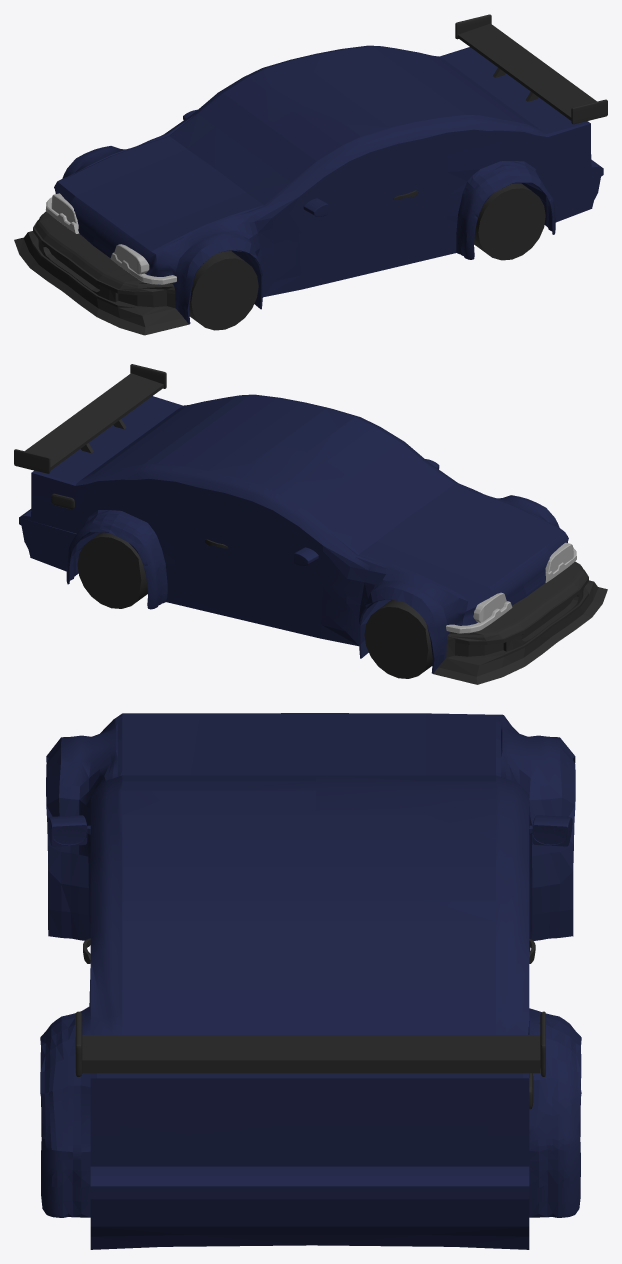
File: BMW_m3_2.0.fbx
3 views of the same model, one above another, from view 1: azimuth 30°, elevation 25°; view 2: azimuth 150°, elevation 25°; view 3: azimuth 270°, elevation 25° (orthographic). The views are drawn at different scales.
Visible parts, largest first — view 1: Car_Body, Front_Bumper, Spoiler, Tire1, Tire4, Headlight2, Eyecover2, Headlight1; view 2: Car_Body, Front_Bumper, Spoiler, Tire2, Tire3, Eyecover1, Headlight1, Headlight2; view 3: Car_Body, Spoiler, SideMirrors1, SideMirrors.
Boxes of the visible parts, box(x1,y1,x2,y2) form: Car_Body: box(54, 45, 603, 324); Front_Bumper: box(14, 211, 188, 335); Spoiler: box(455, 14, 607, 124); Tire1: box(189, 250, 258, 330); Tire4: box(474, 183, 545, 260); Headlight2: box(114, 244, 149, 274); Eyecover2: box(110, 252, 176, 284); Headlight1: box(51, 193, 77, 223); Car_Body: box(19, 394, 568, 673); Front_Bumper: box(433, 561, 607, 684); Spoiler: box(14, 364, 166, 473); Tire2: box(364, 600, 432, 678); Tire3: box(77, 532, 147, 608); Eyecover1: box(446, 601, 512, 633); Headlight1: box(473, 592, 506, 622); Headlight2: box(545, 542, 573, 572); Car_Body: box(40, 713, 581, 1249); Spoiler: box(75, 1011, 545, 1076); SideMirrors1: box(532, 815, 572, 846); SideMirrors: box(47, 815, 87, 846).
Bounding box in the file's own units: 497 × 140 × 239.
